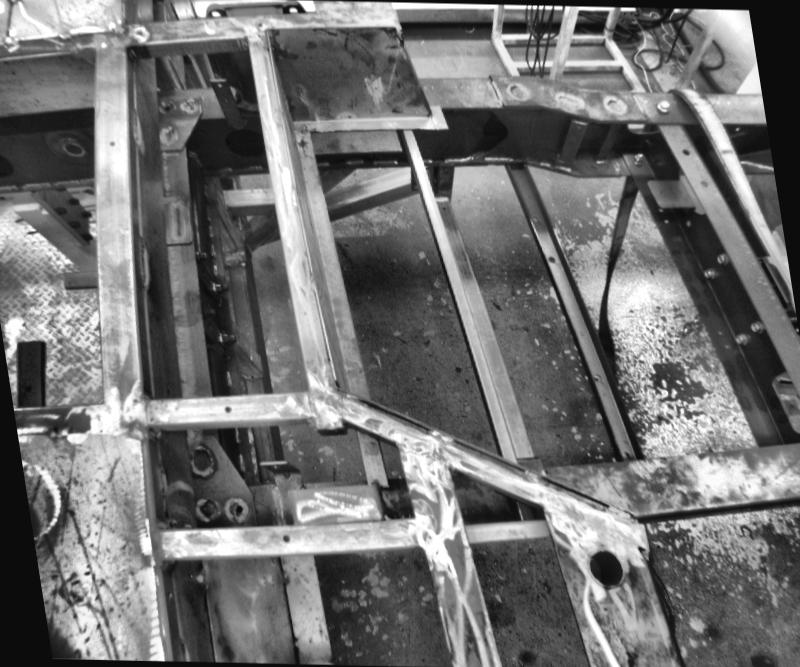bolt: (654, 99, 670, 115), (745, 318, 761, 333), (630, 150, 646, 163), (700, 268, 716, 280), (714, 254, 726, 266), (732, 334, 744, 343)
bracket: (6, 334, 52, 404), (640, 170, 694, 223), (763, 368, 799, 435), (57, 264, 103, 291)
hole: (584, 546, 626, 584), (24, 382, 38, 392), (277, 531, 289, 541), (222, 403, 232, 411), (546, 254, 556, 262), (594, 371, 602, 381), (107, 138, 116, 146), (622, 448, 630, 457), (680, 146, 690, 153), (530, 213, 540, 220), (234, 503, 242, 511), (721, 341, 729, 349), (714, 329, 720, 334), (440, 206, 443, 210)
